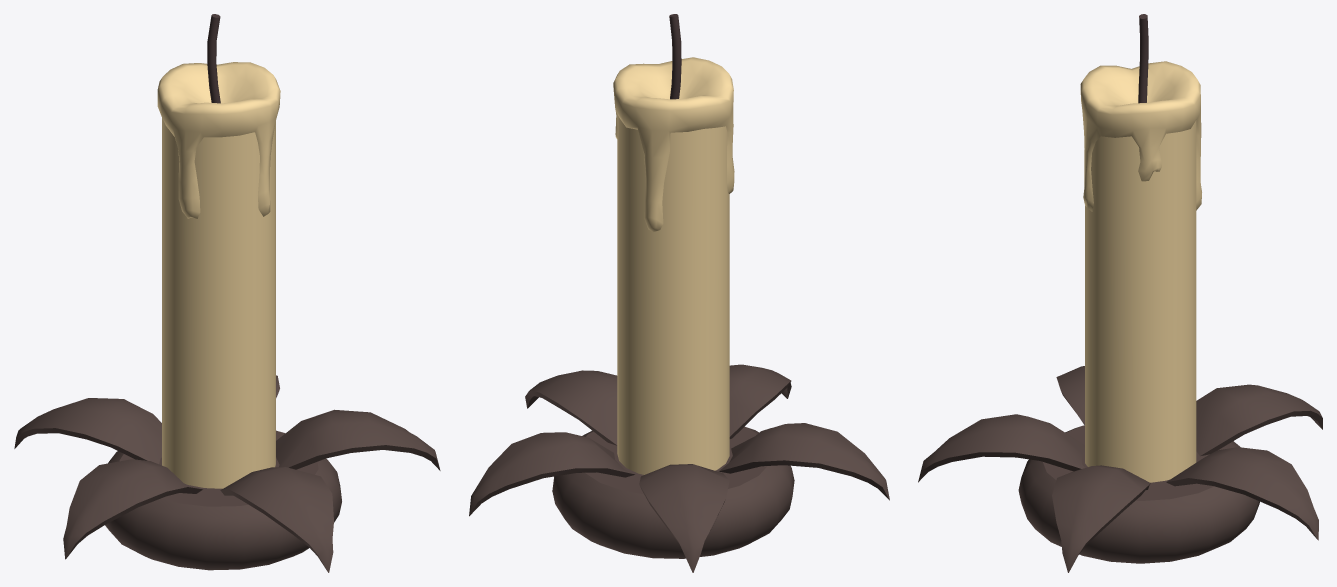
Rendered from FI_079_big_candle.glb.
3 views of the same model, side by side, from view 1: azimuth 30°, elevation 25°; view 2: azimuth 150°, elevation 25°; view 3: azimuth 270°, elevation 25° (orthographic).
Parts seen in each view (by area): view 1: big_candle; view 2: big_candle; view 3: big_candle.
Part boxes in pixels (bbox=[...]): big_candle: bbox=[14, 14, 440, 572]; big_candle: bbox=[469, 14, 889, 572]; big_candle: bbox=[918, 14, 1322, 572].
Bounding box in the file's own units: 0.8154 × 1.07 × 0.7796.
